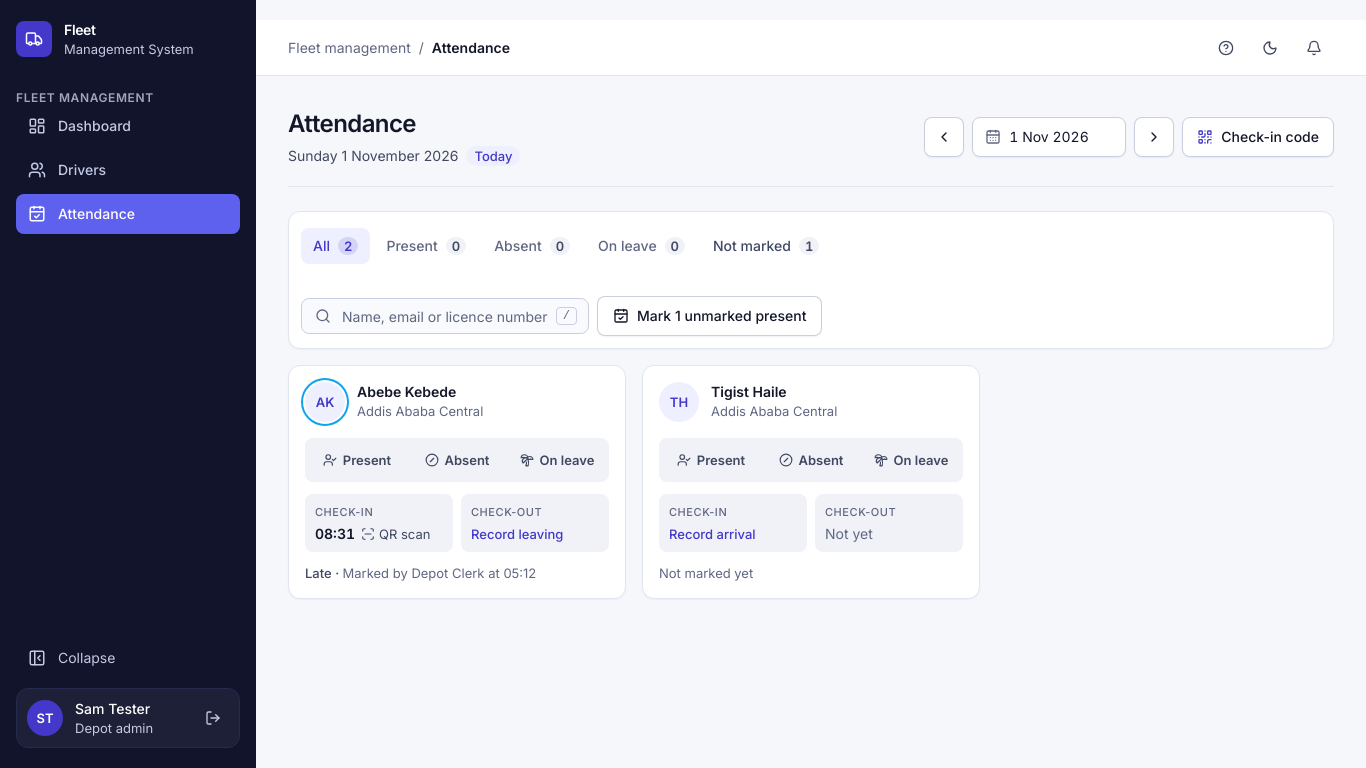
Test: Attendance roll call (S-06) › shows when each driver checked in and out and how; staff record an arrival by hand, and open the check-in code (FMS-141)
The width and height of the screenshot is (1366, 768).
Check: the heading "Attendance" is shown, box [288,109,416,138]
Check: the element named "Abebe Kebede:" is shown, box [288,365,626,599]
Click the button with aria-label "Record arrival for Tigist Haile" at (712, 534), box [665,525,760,543]
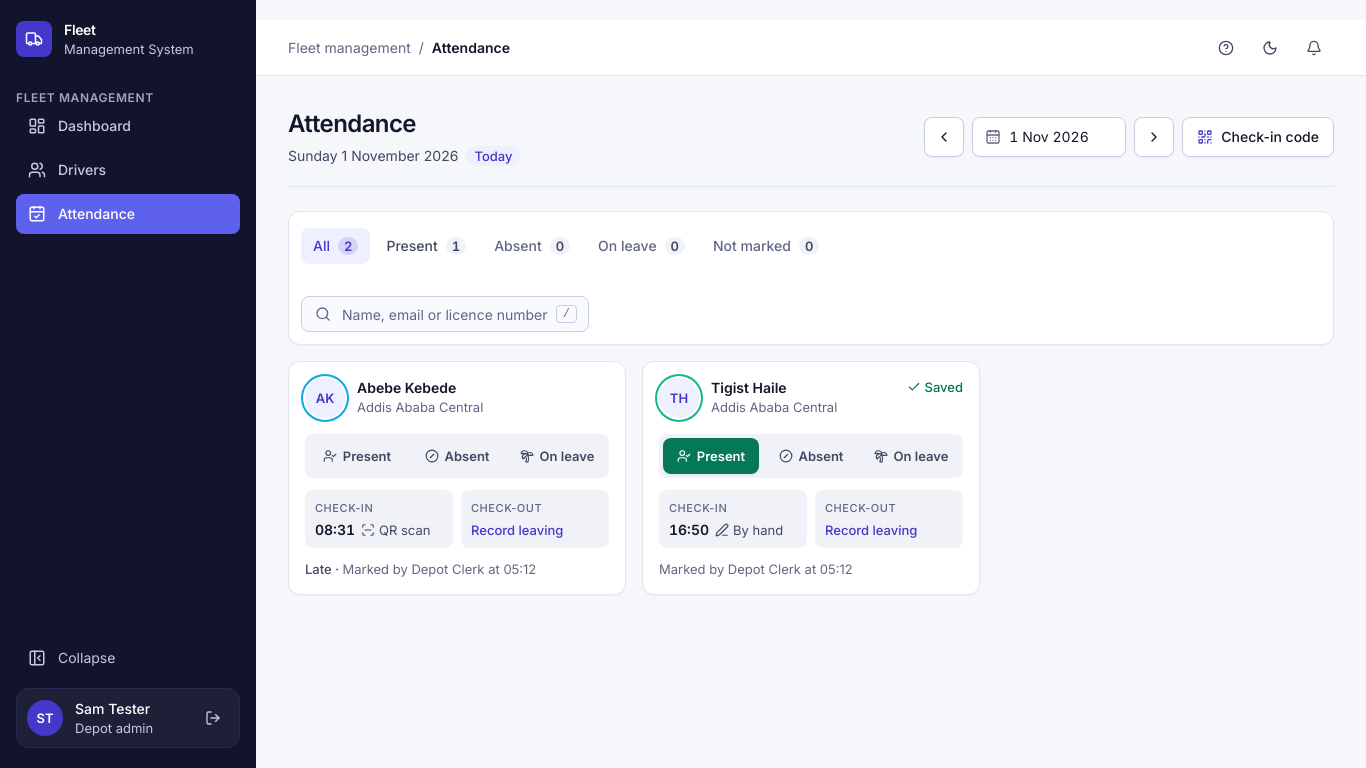
Check: the text "By hand" is shown, box [715,521,783,539]
